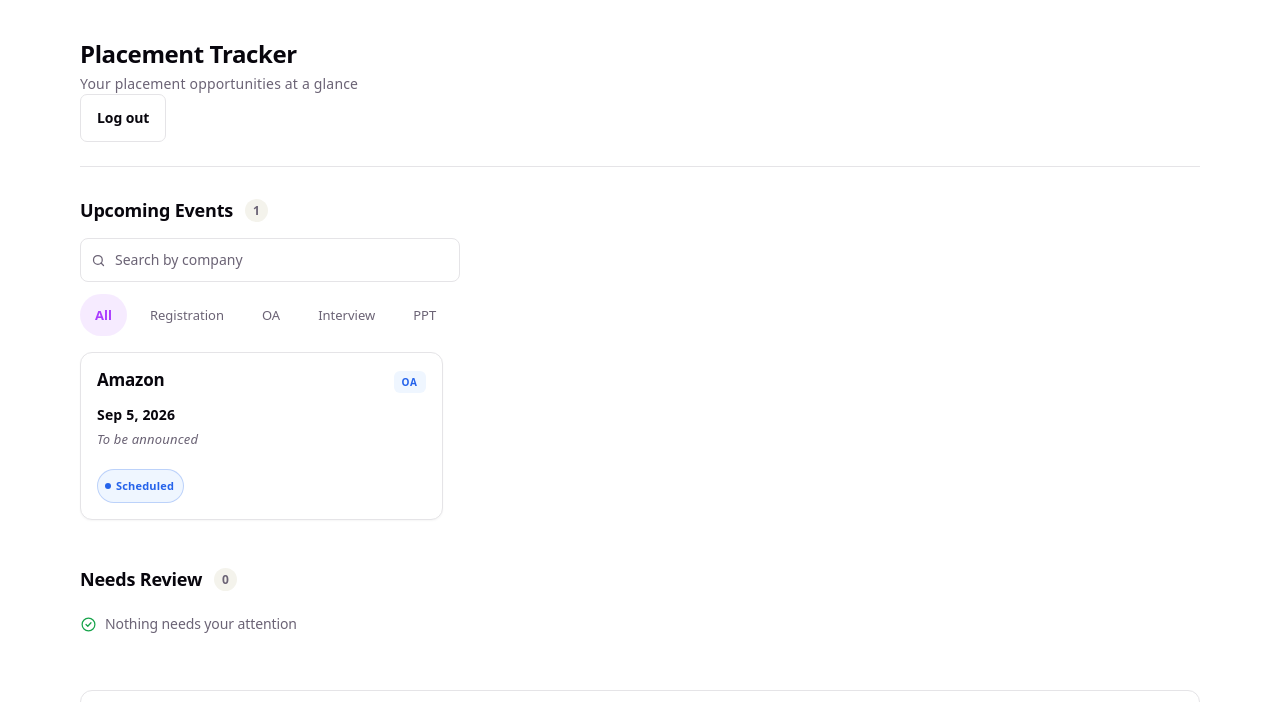
Test case: a failed logout leaves the user signed in › reports a network failure as a connectivity problem
Click the button "Log out".
click(123, 118)  # box [80,94,166,142]
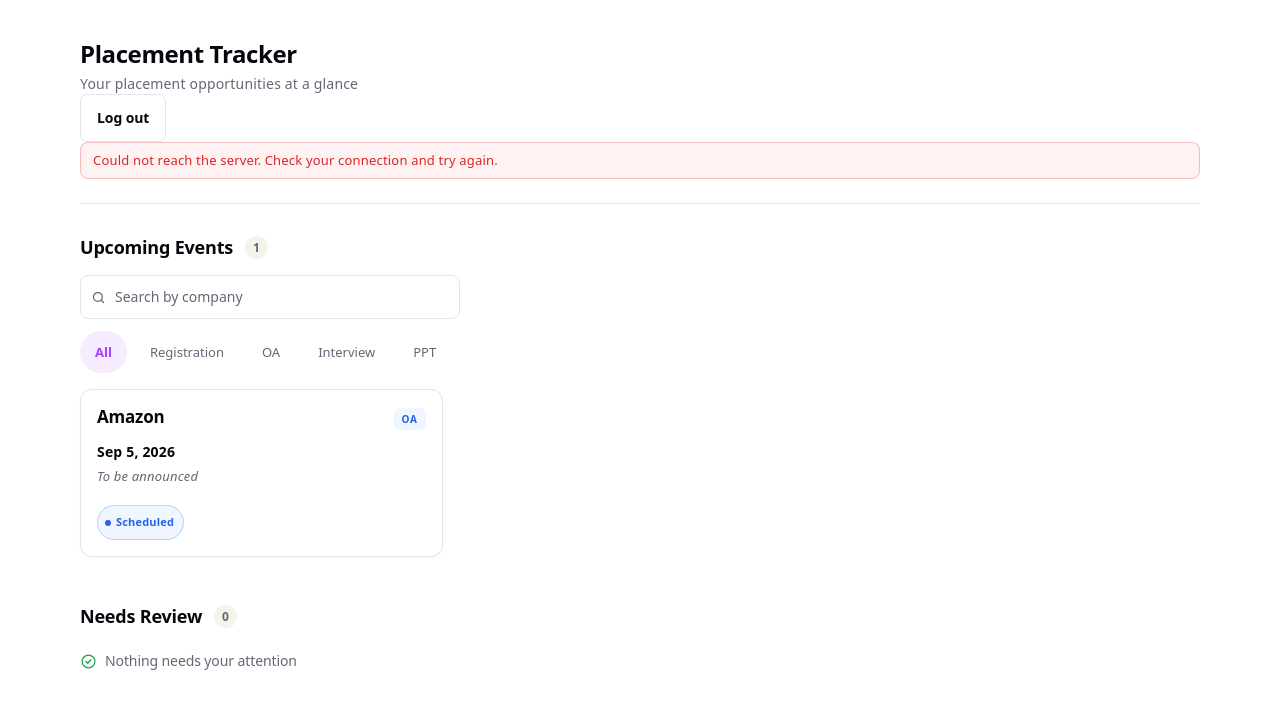
Now the message reads "Could not reach the server. Check your connection and try again.", box [93,151,498,169]
